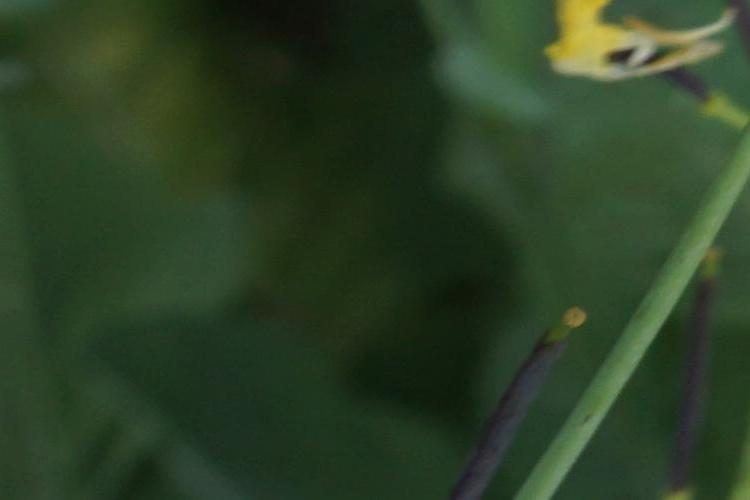pod: (444, 258, 616, 500), (657, 257, 736, 486)
